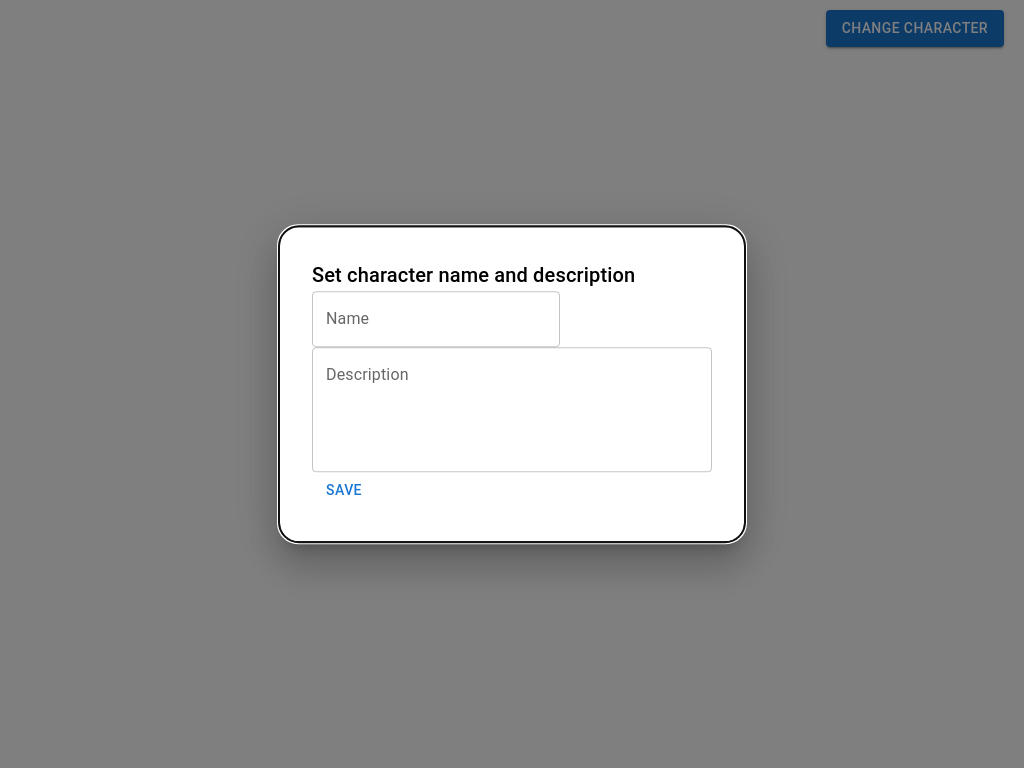
CreateCharacterModal › reports the name and description on save and closes
Type "Frodo" into the field labelled "Name" at (436,319), box [312, 291, 560, 347]
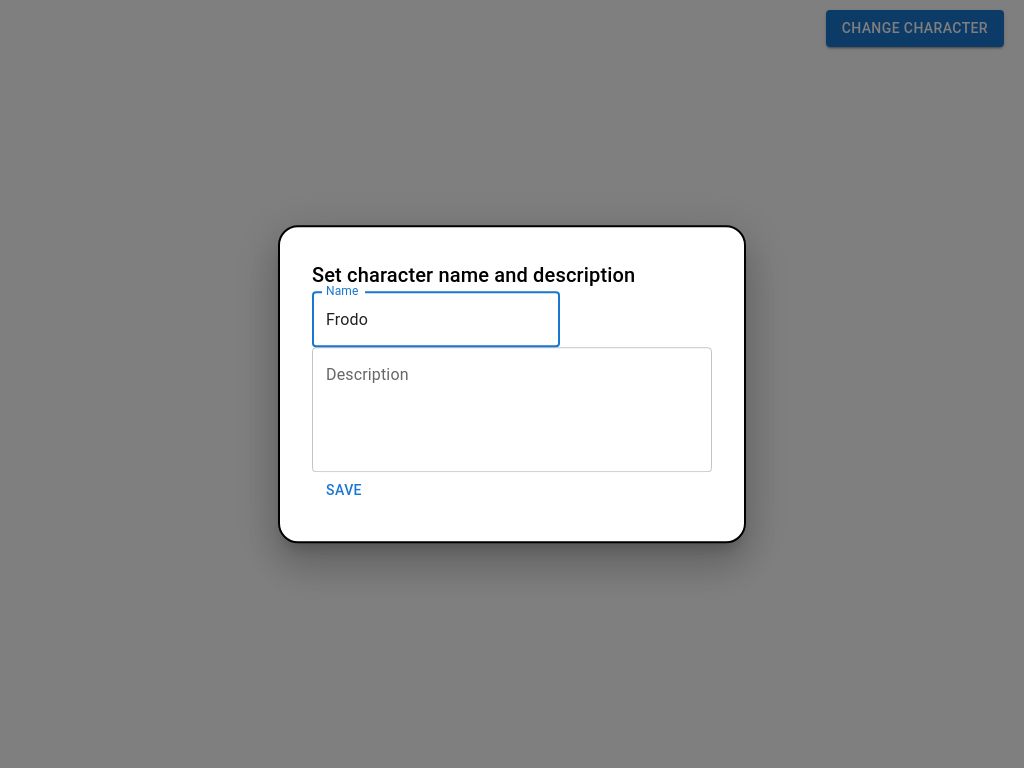
Type "A hobbit" into the text box labelled "Description" at (512,410), box [326, 364, 698, 456]
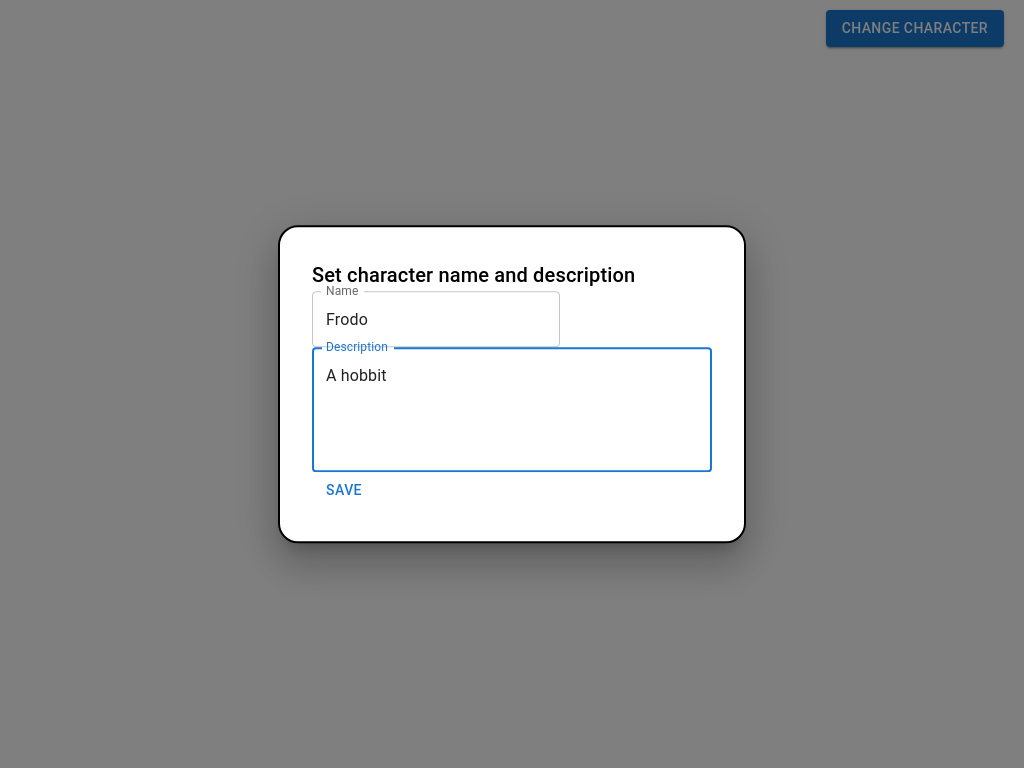
Click the button "Save" at (344,491), box [312, 472, 376, 509]
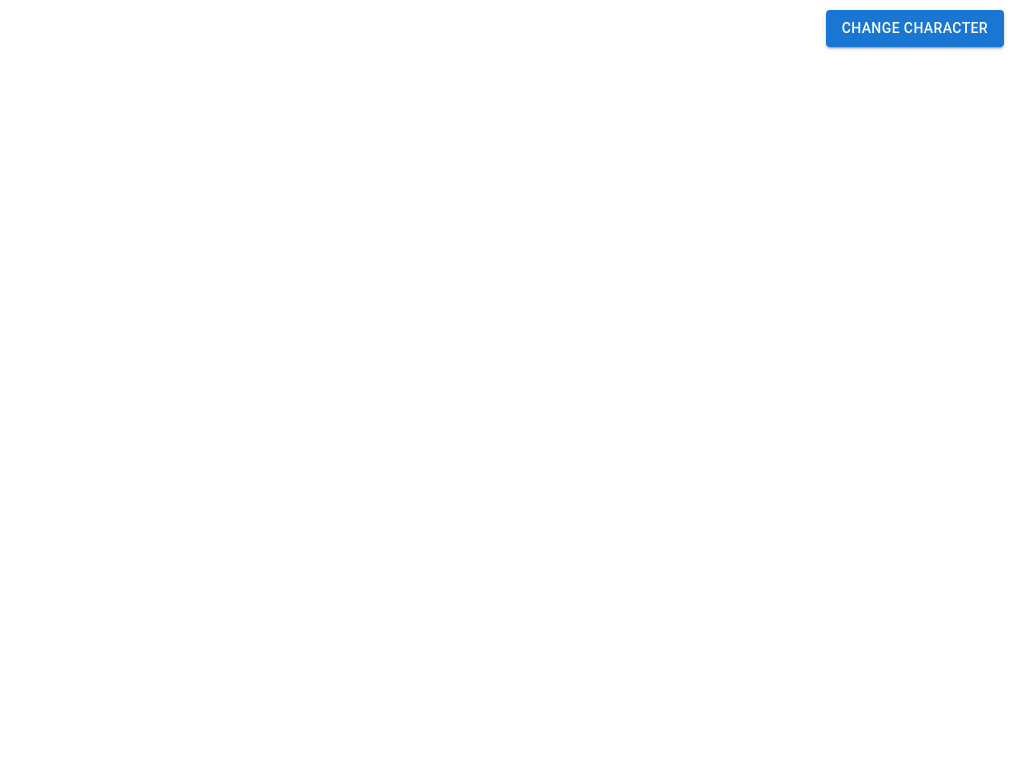
Check: the heading "Set character name and description" is gone
